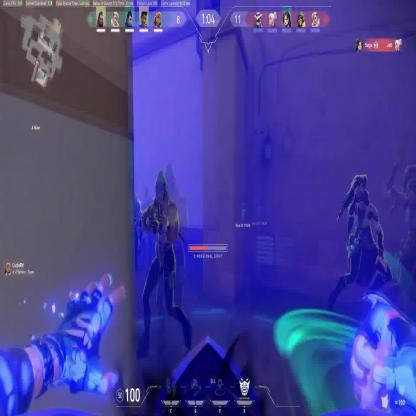enemy: (132, 170, 192, 357), (326, 173, 398, 315), (127, 190, 142, 275)
enemy_head: (155, 171, 167, 200), (356, 188, 370, 211)
